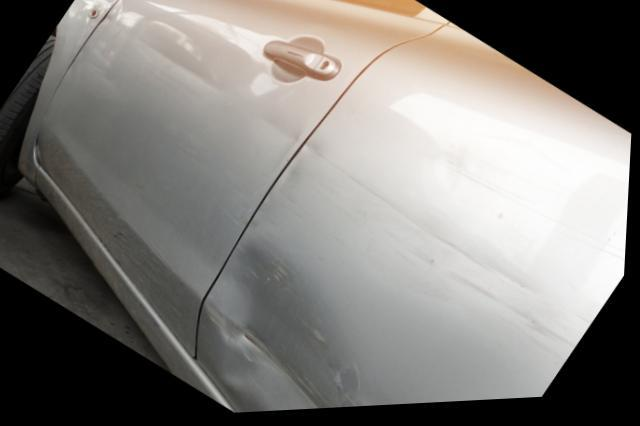dent: (207, 238, 366, 414)
scratch: (275, 147, 601, 396)
